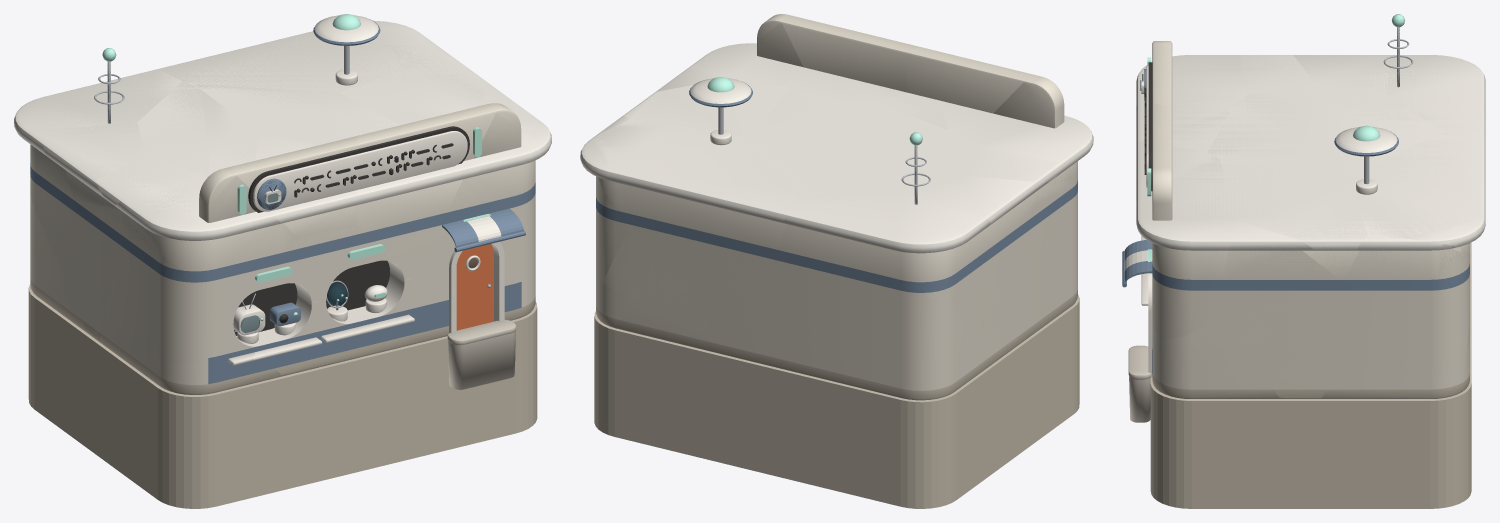
File: Loja_Eletronicos.fbx
3 views of the same model, side by side, from view 1: azimuth 30°, elevation 25°; view 2: azimuth 150°, elevation 25°; view 3: azimuth 270°, elevation 25° (orthographic). The views are drawn at different scales.
Parts seen in each view (by area): view 1: LOD0_Predio.010, LOD0_Base.010, Caco_19.010, Caco_05.010, Caco_15.010, Caco_02.010, Caco_22.008, Caco_14.010, Caco_01.010, Caco_21.008, Caco_17.010, Caco_03.010 (+9 smaller); view 2: LOD0_Predio.010, LOD0_Base.010, Caco_06.010, Caco_22.008, Caco_14.010, Caco_07.010, Caco_05.010, Caco_10.010, Caco_15.010, Caco_17.010, Caco_03.010, Caco_09.010 (+11 smaller); view 3: LOD0_Predio.010, LOD0_Base.010, Caco_08.010, Caco_20.008, Caco_22.008, Caco_21.008, Caco_09.010, Caco_01.010, Caco_14.010, Caco_10.010, Caco_05.010, Caco_15.010 (+9 smaller).
Part boxes in pixels (x1,y1,x2,y2): LOD0_Predio.010: (21, 15, 546, 394); LOD0_Base.010: (28, 284, 537, 508); Caco_19.010: (239, 227, 414, 374); Caco_05.010: (353, 104, 496, 256); Caco_15.010: (115, 167, 295, 288); Caco_02.010: (109, 213, 256, 364); Caco_22.008: (158, 14, 439, 92); Caco_14.010: (14, 69, 181, 337); Caco_01.010: (408, 236, 535, 345); Caco_21.008: (435, 103, 551, 256); Caco_17.010: (231, 137, 358, 236); Caco_03.010: (43, 93, 144, 319); LOD0_Predio.010: (580, 14, 1092, 400); LOD0_Base.010: (594, 294, 1079, 508); Caco_06.010: (780, 246, 996, 400); Caco_22.008: (580, 77, 799, 256); Caco_14.010: (780, 181, 1021, 347); Caco_07.010: (603, 223, 771, 348); Caco_05.010: (782, 15, 918, 103); Caco_10.010: (745, 83, 863, 191); Caco_15.010: (955, 76, 1093, 184); Caco_17.010: (878, 47, 1032, 130); Caco_03.010: (902, 175, 1048, 311); Caco_09.010: (624, 80, 789, 138); LOD0_Predio.010: (1136, 18, 1485, 398); LOD0_Base.010: (1150, 242, 1471, 508); Caco_08.010: (1334, 236, 1469, 378); Caco_20.008: (1213, 220, 1342, 398); Caco_22.008: (1334, 125, 1485, 258); Caco_21.008: (1136, 168, 1234, 339); Caco_09.010: (1221, 182, 1367, 281); Caco_01.010: (1148, 309, 1281, 398); Caco_14.010: (1386, 55, 1485, 131); Caco_10.010: (1219, 131, 1416, 189); Caco_05.010: (1136, 103, 1229, 200); Caco_15.010: (1136, 41, 1248, 109).
Size of what is drawn, in the model's own units: 11.2 by 9.62 by 9.16.
